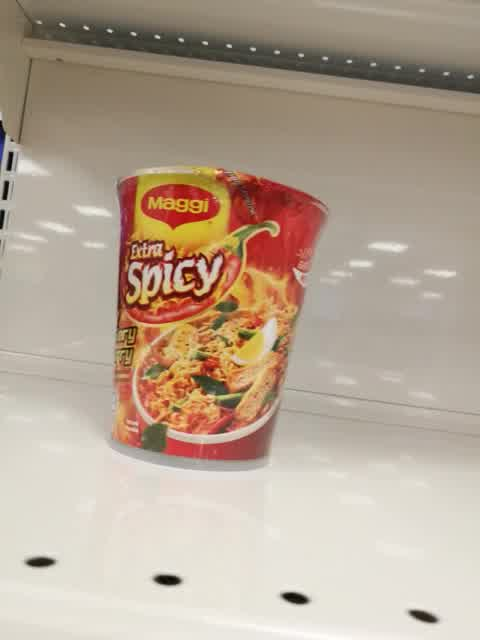maggi: (103, 165, 331, 473)
